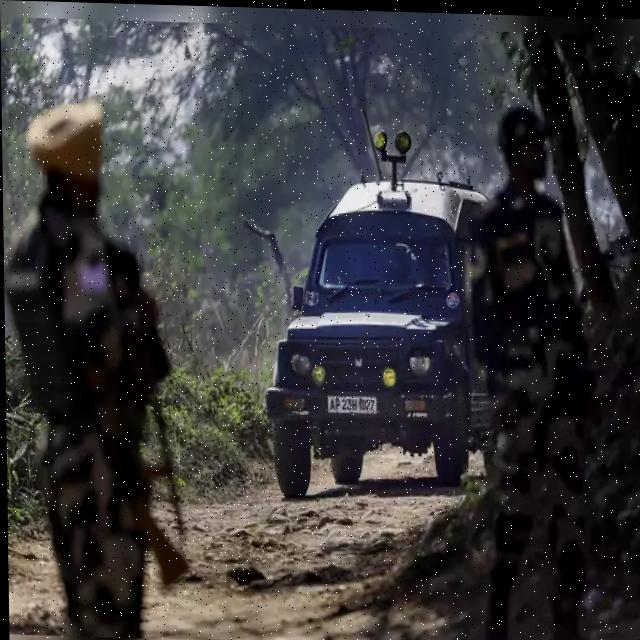plate: (321, 391, 379, 417)
